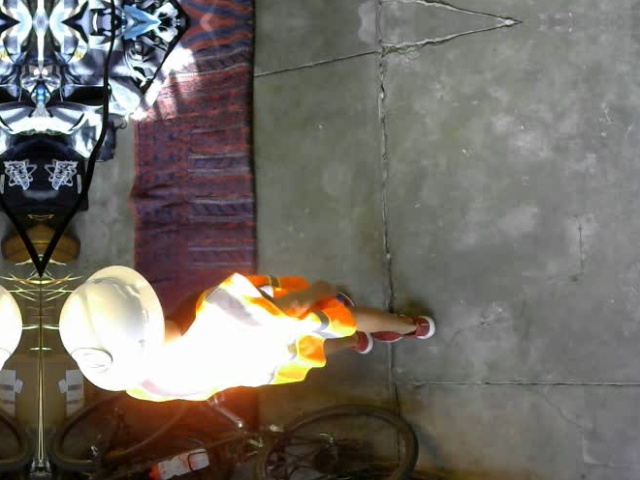two: (69, 346, 111, 372)
